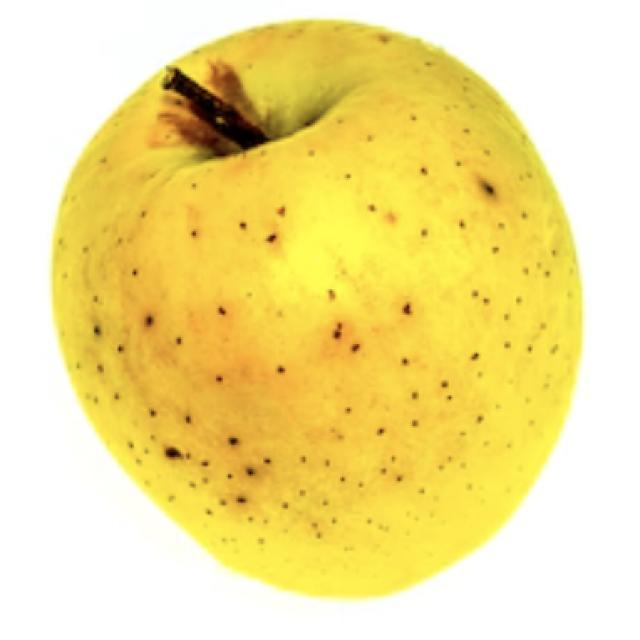Rotten: (48, 8, 590, 600)
